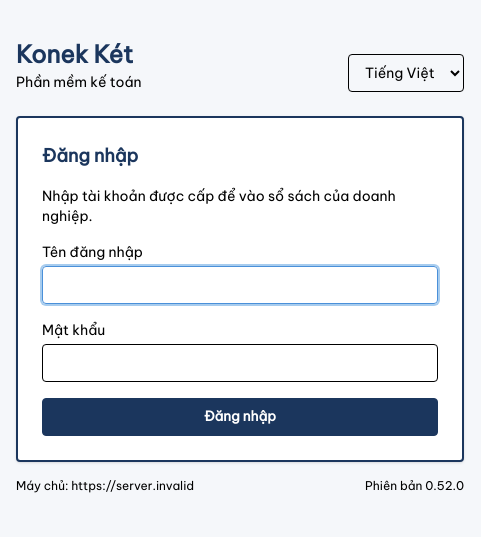
Test: luồng đăng nhập › sai mật khẩu hiện thông điệp dựng từ mã lỗi, không phải câu của server
In the field labelled "Tên đăng nhập": x=240, y=285 left=42, top=266, right=438, bottom=304, type "ke_toan"
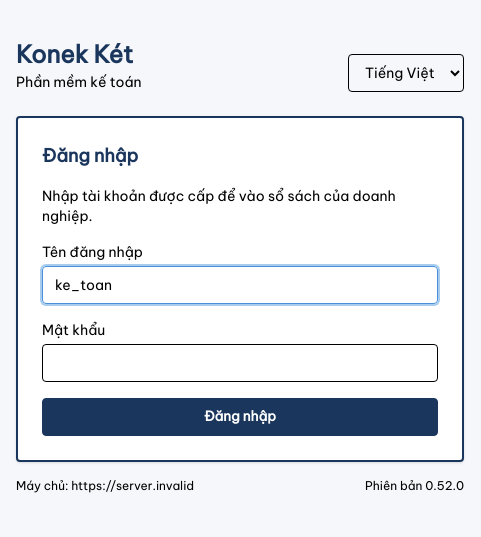
In the password field labelled "Mật khẩu": x=240, y=363 left=42, top=344, right=438, bottom=382, type "mat-khau-dung"
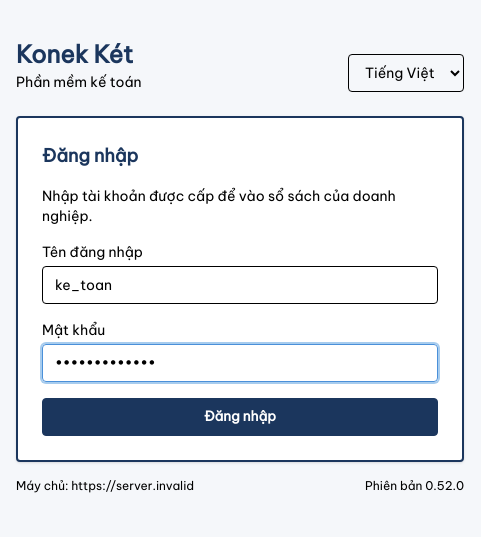
Click the button "Đăng nhập": x=240, y=417 left=42, top=398, right=438, bottom=436
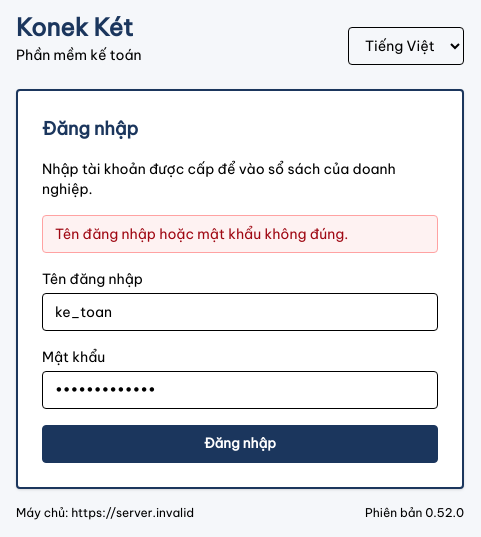
Check: the message does not show "câu dành cho người vận hành", box left=42, top=215, right=438, bottom=253
Check: the message reads "Tên đăng nhập hoặc mật khẩu không đúng.", box left=55, top=225, right=348, bottom=243
